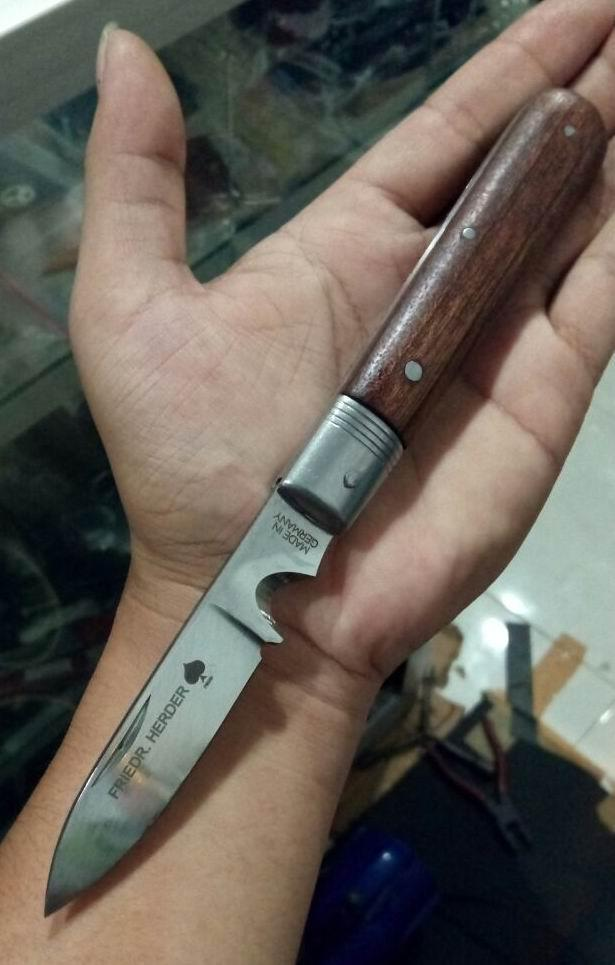faca: (45, 92, 604, 912)
